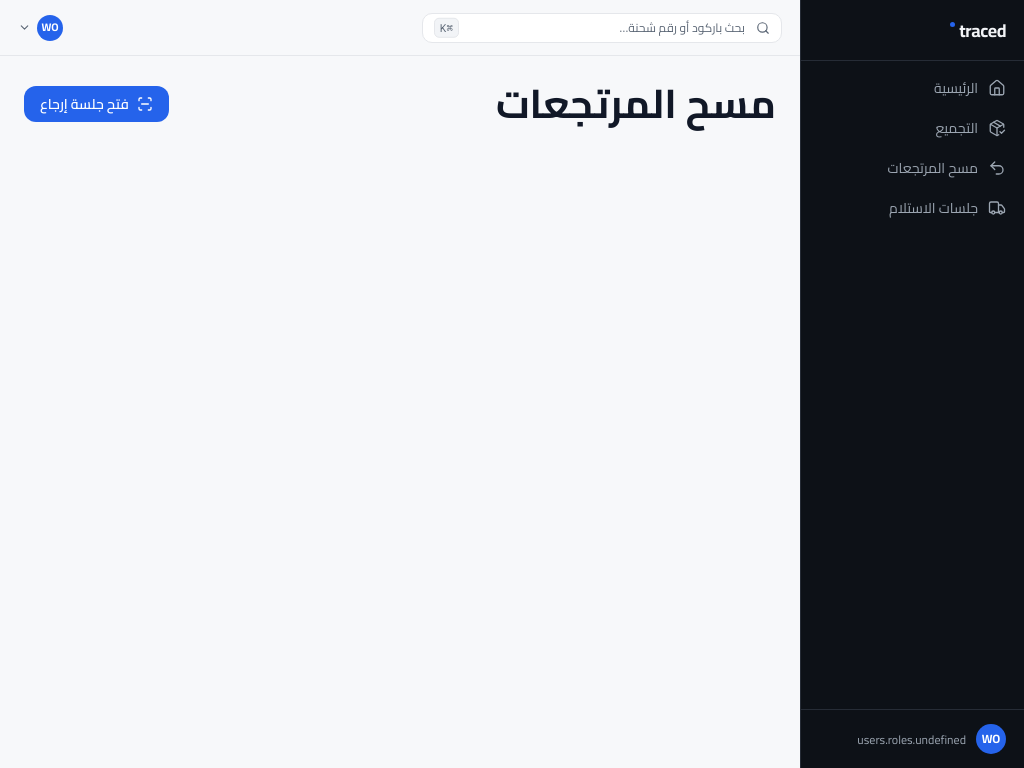
Test case: Returns — courier return (CRP) AWB info line › cr3 AR falls back to the EN description when descriptionAr is missing
Click the button with test id "open-session-button" at point(96, 104), box [24, 86, 169, 122]
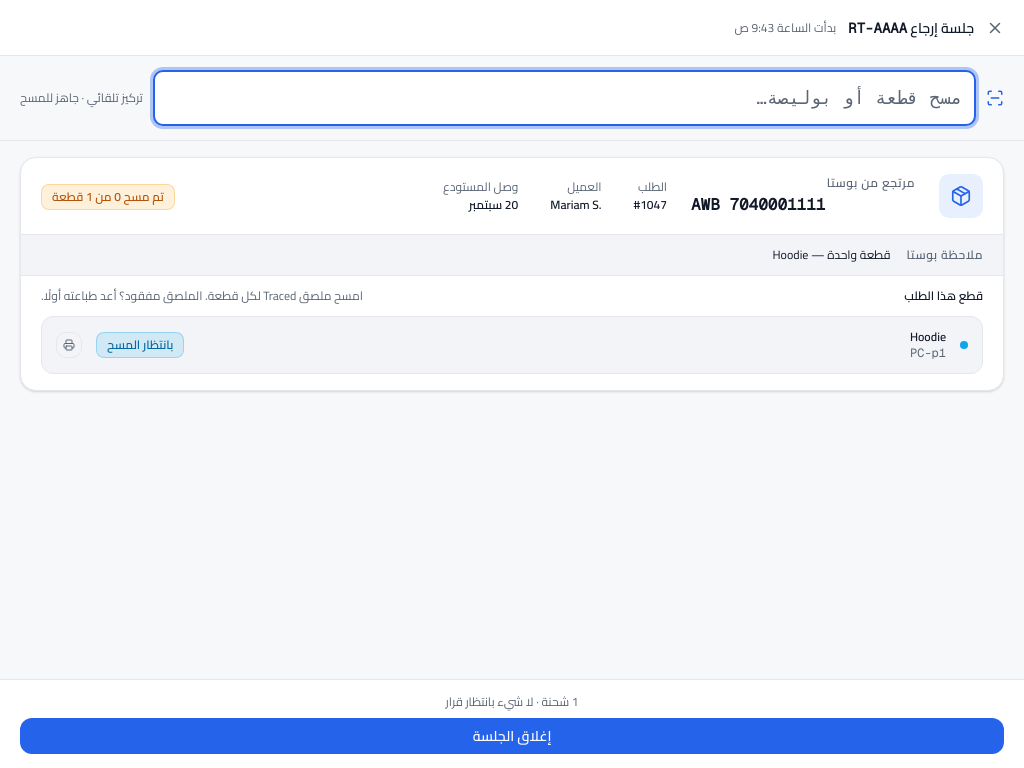
Expected: the element with test id "open-session-screen" is shown
Expected: the element with test id "parcel-bosta-note" reads "قطعة واحدة — Hoodie", [773, 247, 891, 263]
